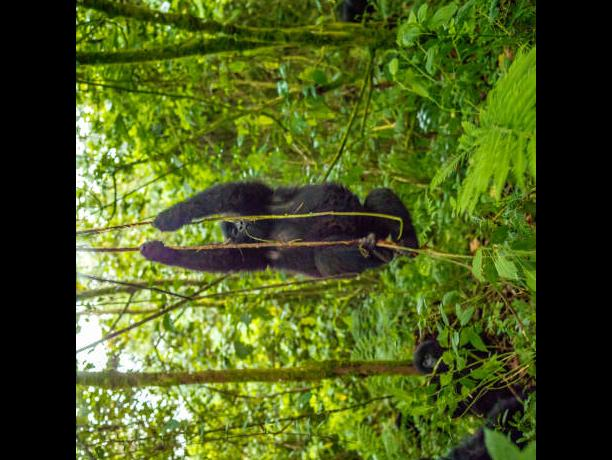goriile_montagne: (131, 164, 420, 283), (399, 316, 456, 388), (369, 436, 518, 460)
